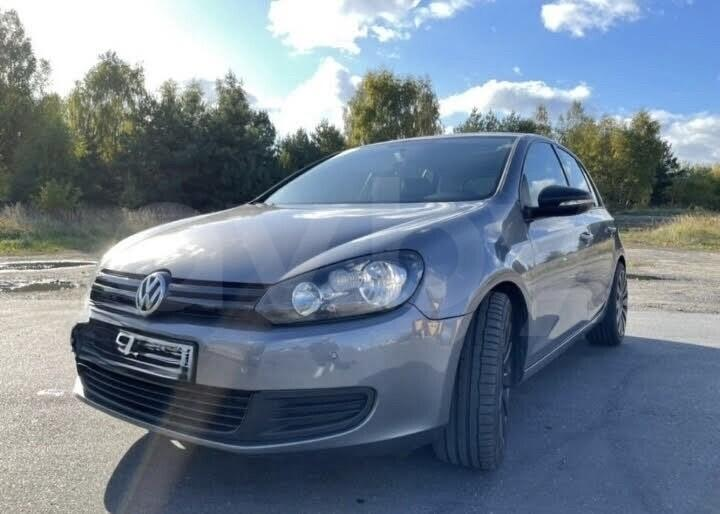Golf_2008-2013: (69, 127, 634, 475)
